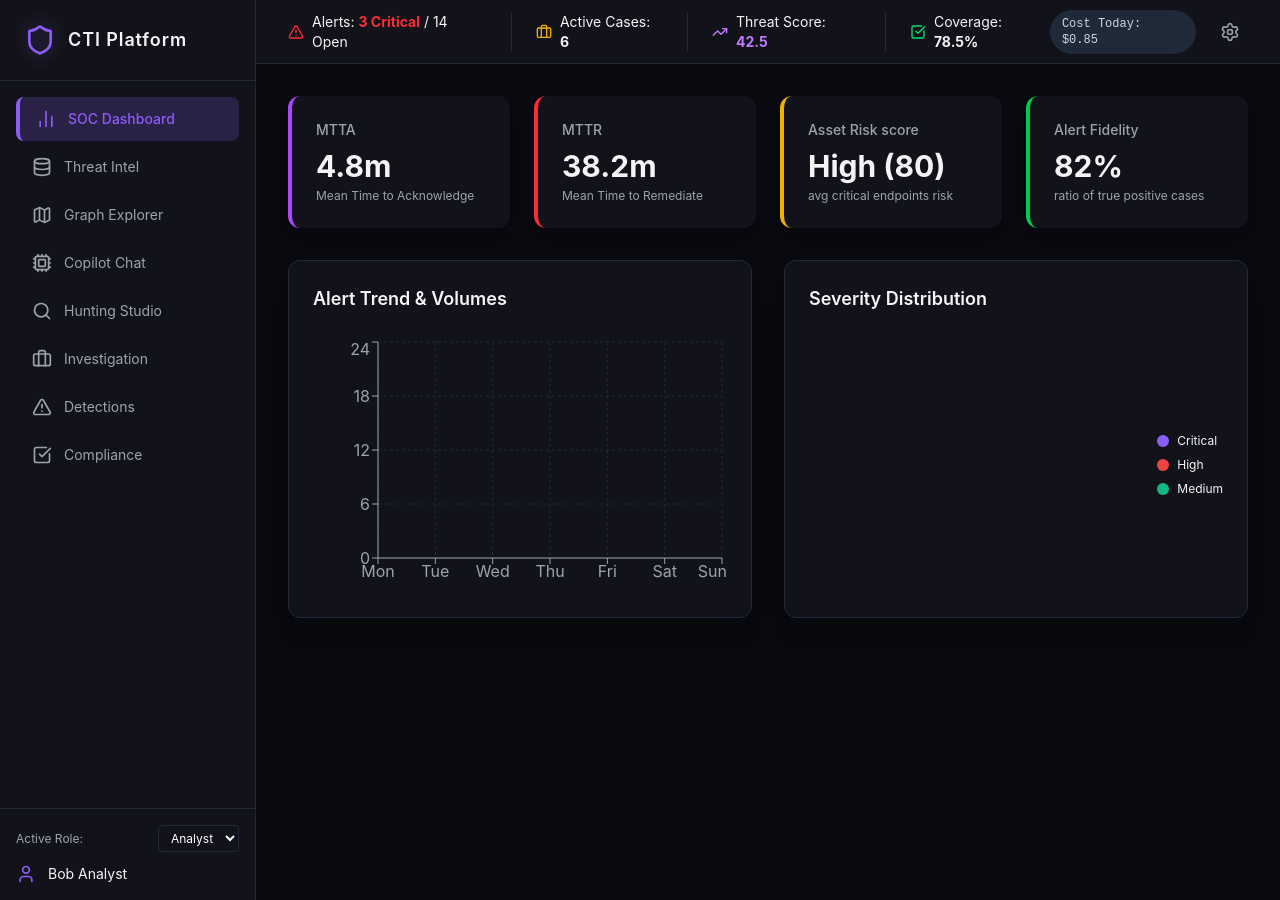
Test: SOC Dashboard Layout & Routing › navigates to different sidebar tabs on click
Step 1. Click the button "Threat Intel" → (128, 167), box [16, 145, 239, 189]
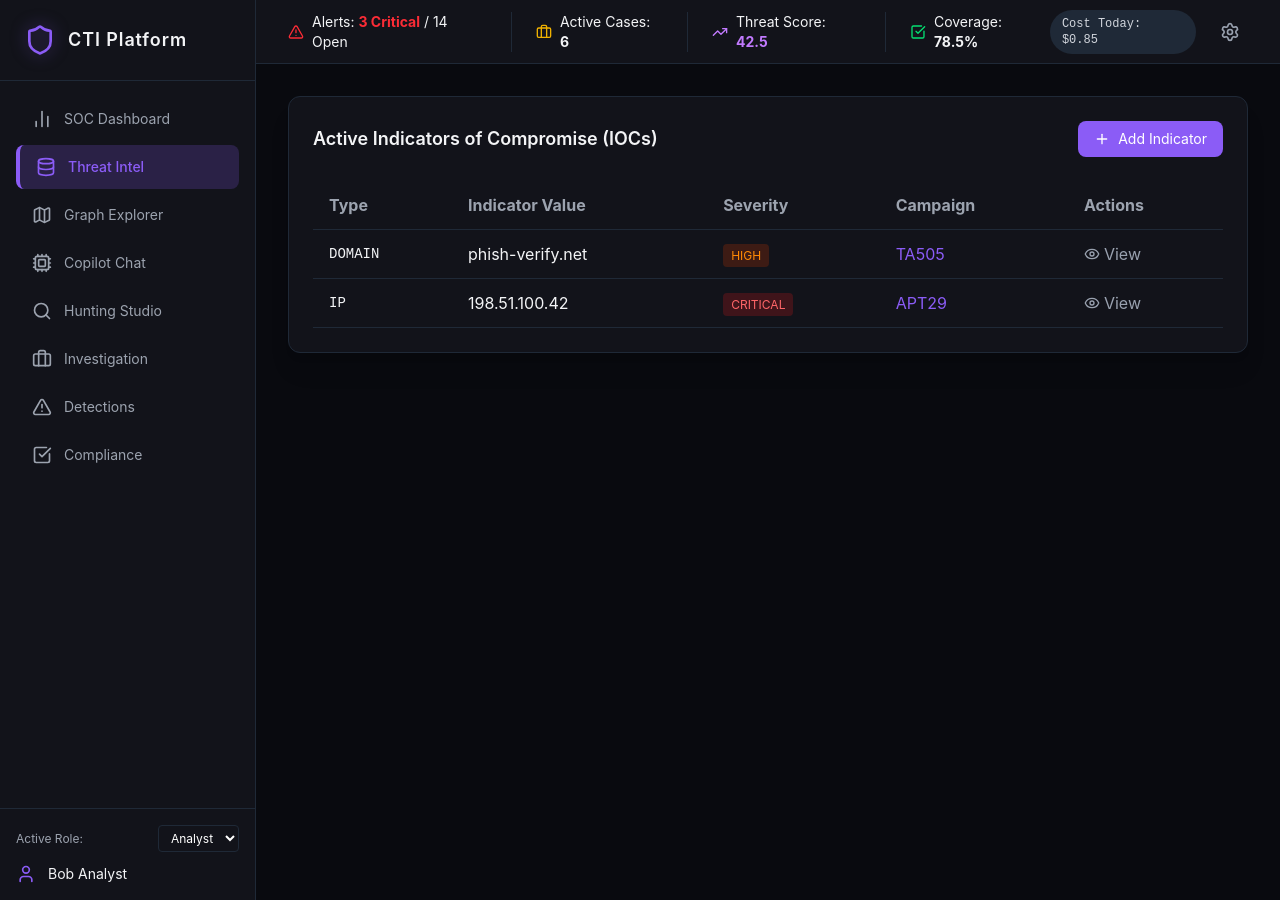
Result: the heading "Active Indicators of Compromise (IOCs)" is shown at [313, 125, 658, 153]
